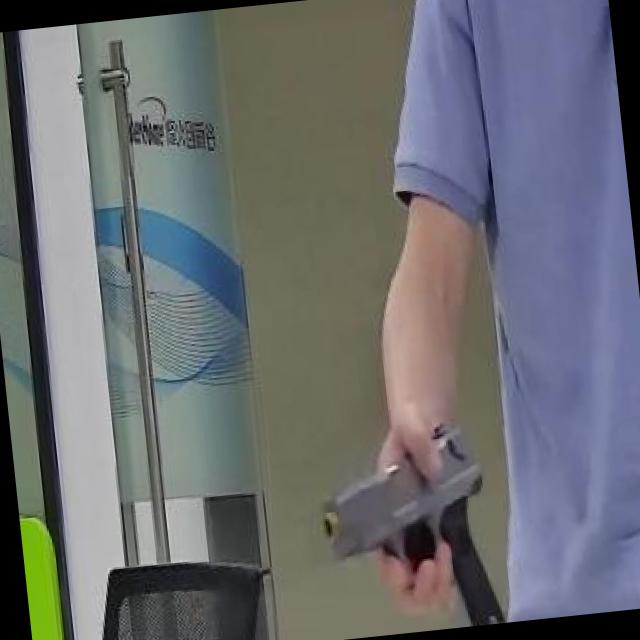Guns: (289, 383, 544, 640)
